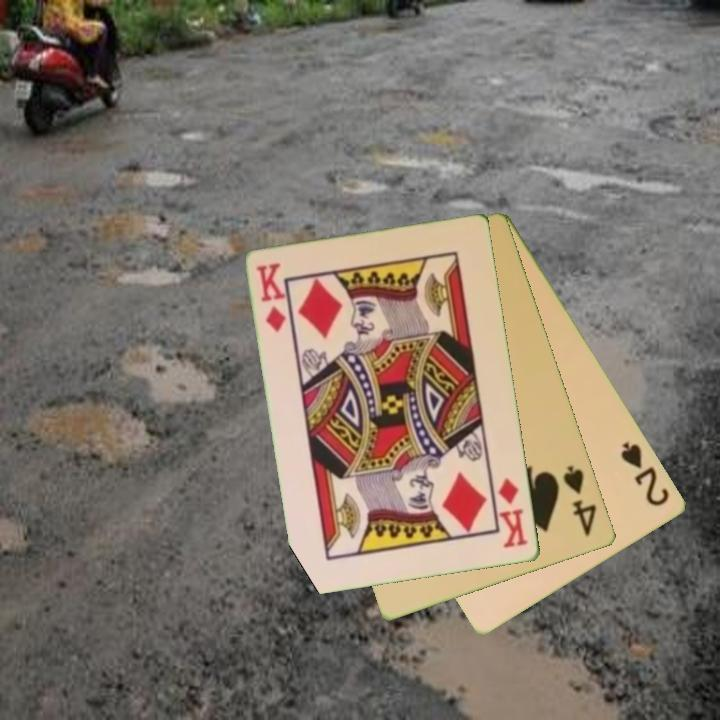2s: (617, 438, 673, 510)
4s: (560, 462, 600, 540)
Kd: (253, 259, 290, 336), (495, 475, 532, 551)
